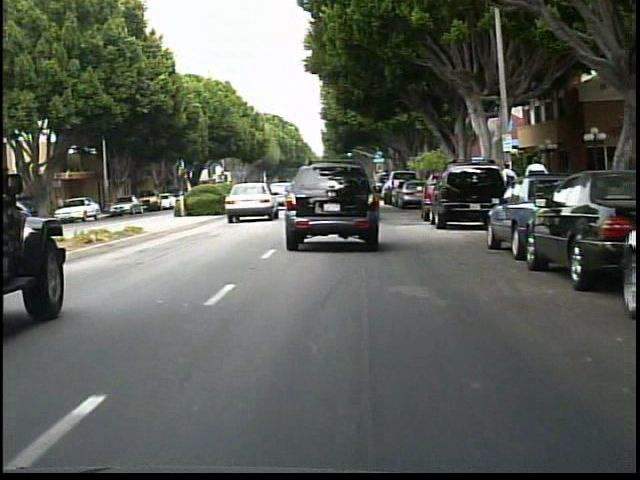person: (521, 153, 550, 217), (496, 160, 520, 213), (52, 191, 72, 223)
